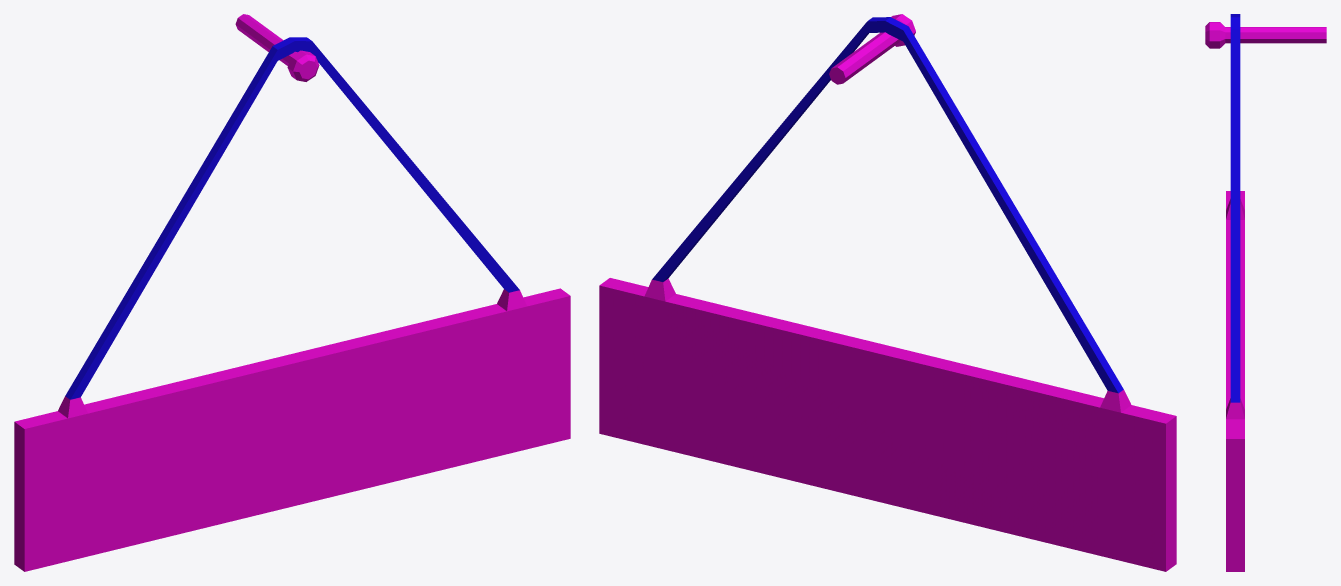
Rendered from insegna_pasta_sughi.fbx.
The picture shows the model from 3 angles, left to right: view 1: azimuth 30°, elevation 25°; view 2: azimuth 150°, elevation 25°; view 3: azimuth 270°, elevation 25°; orthographic projection. The views are drawn at different scales.
Visible parts, largest first — view 1: Pasta_sughi; view 2: Pasta_sughi; view 3: Pasta_sughi.
Boxes of the visible parts, x1,y1,x2,y2 form: Pasta_sughi: [14, 14, 570, 571]; Pasta_sughi: [599, 14, 1176, 571]; Pasta_sughi: [1205, 14, 1326, 571].
Bounding box in the file's own units: 600 × 486 × 124.
